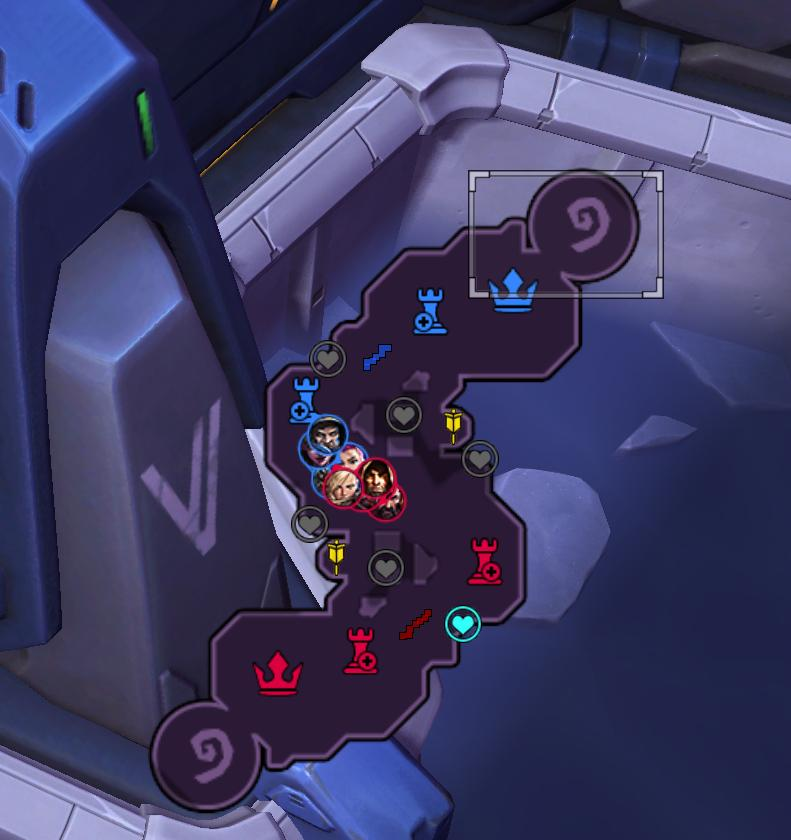blue player: (299, 428, 349, 473), (305, 414, 351, 457), (312, 465, 346, 499), (301, 433, 334, 466), (372, 488, 403, 520), (313, 468, 331, 495), (356, 495, 378, 511)
red player: (356, 458, 398, 508), (323, 463, 366, 510), (336, 442, 369, 474)
